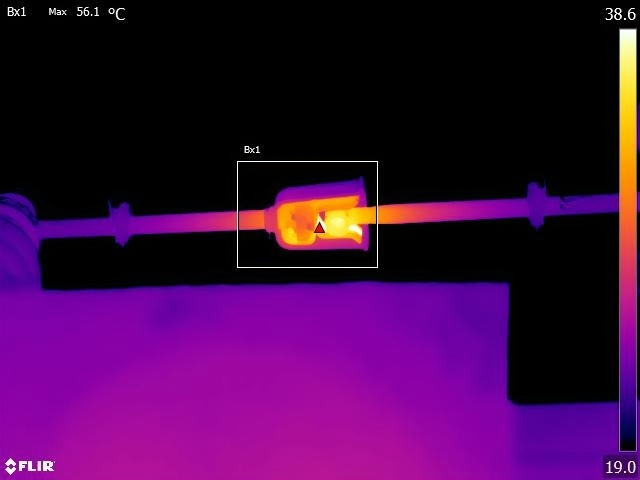post insulator: (1, 185, 51, 291)
switch: (8, 160, 617, 244)
